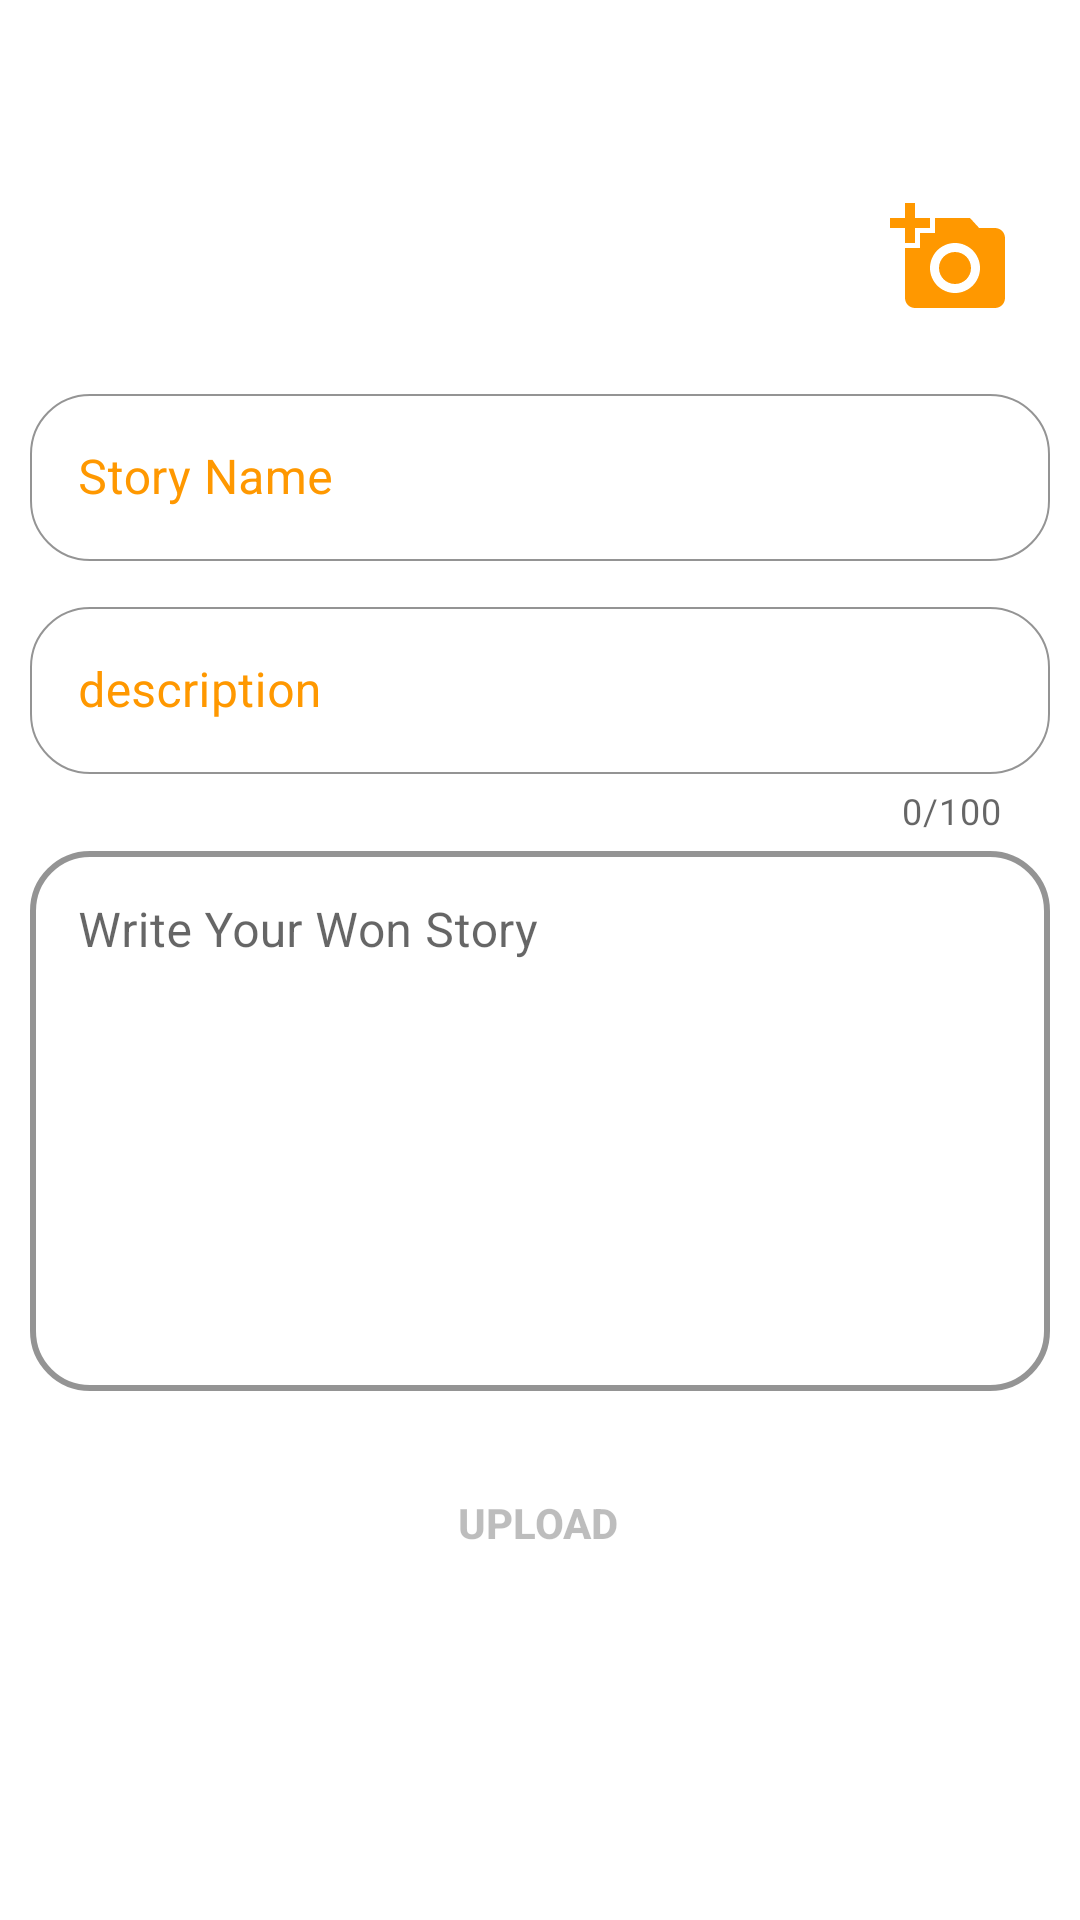

Screen size 1080x1920. Icon name, then its box in pixels as (x1, y1, x2, y2):
add photo: (890, 203, 1005, 308)
